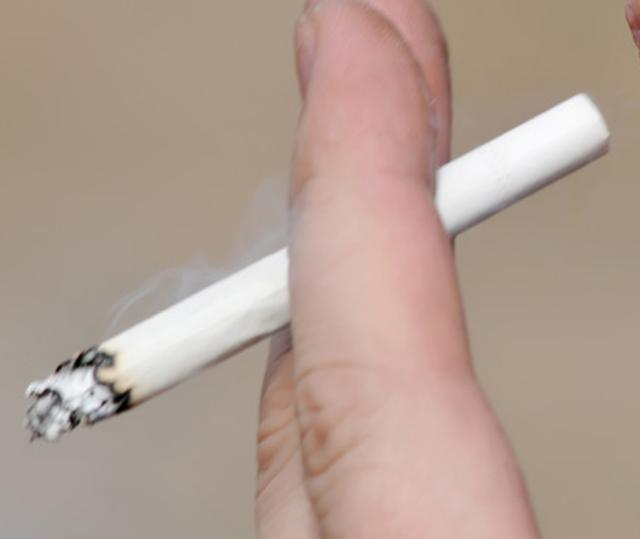Cigarette: (23, 86, 613, 444)
